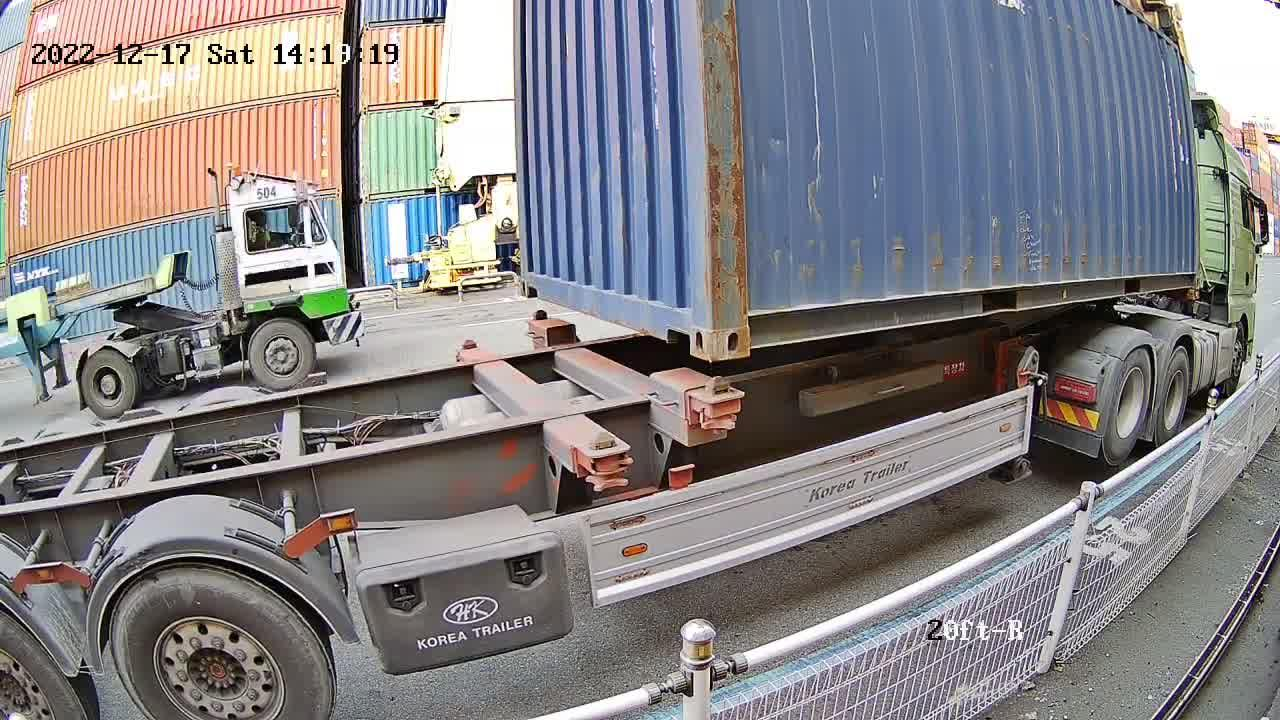Chassis: (529, 312, 739, 445)
Cone: (697, 374, 747, 433), (527, 308, 553, 333)
Hole_L: (711, 274, 791, 362), (519, 248, 553, 305)
Hole_R: (650, 279, 713, 365)
Tire: (112, 569, 325, 715), (1104, 350, 1152, 465), (1155, 350, 1191, 445)
